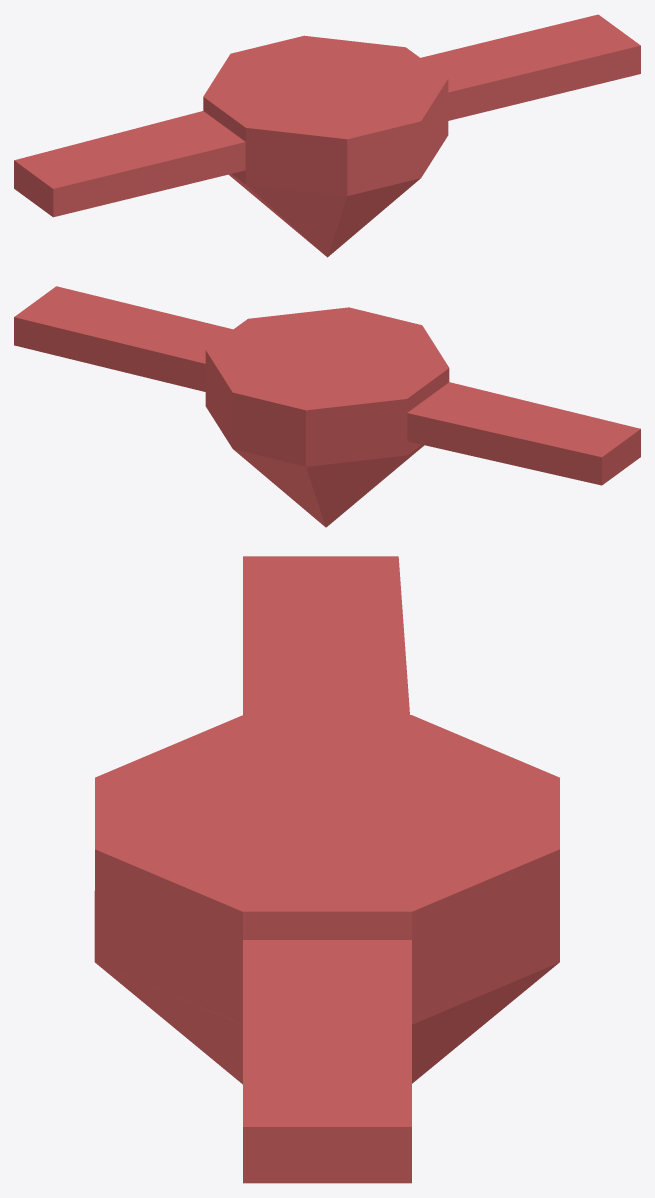
The model's file is rc_guruguru.glb.
3 renders of one model, top to bottom at view 1: azimuth 30°, elevation 25°; view 2: azimuth 150°, elevation 25°; view 3: azimuth 270°, elevation 25°, orthographic. The views are drawn at different scales.
Parts seen in each view (by area): view 1: rc_guruguru_col; view 2: rc_guruguru_col; view 3: rc_guruguru_col.
Boxes of the visible parts, bbox=[...] form: rc_guruguru_col: bbox=[14, 14, 640, 257]; rc_guruguru_col: bbox=[14, 286, 640, 527]; rc_guruguru_col: bbox=[94, 556, 559, 1183].
Size of the model in its own units: 2.17 by 0.6001 by 0.7472.
